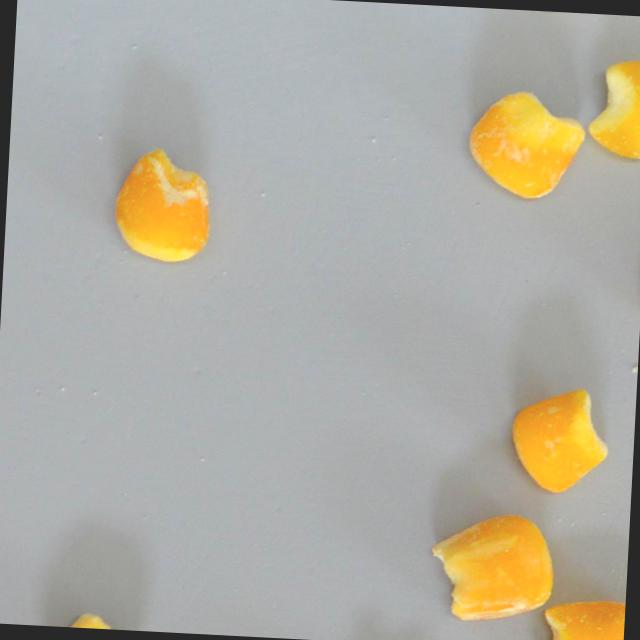no_canjicado: (586, 59, 640, 161)
pelicula: (427, 508, 557, 625), (464, 86, 589, 202), (110, 148, 214, 263), (505, 385, 611, 496), (530, 595, 626, 640), (39, 609, 156, 632)
